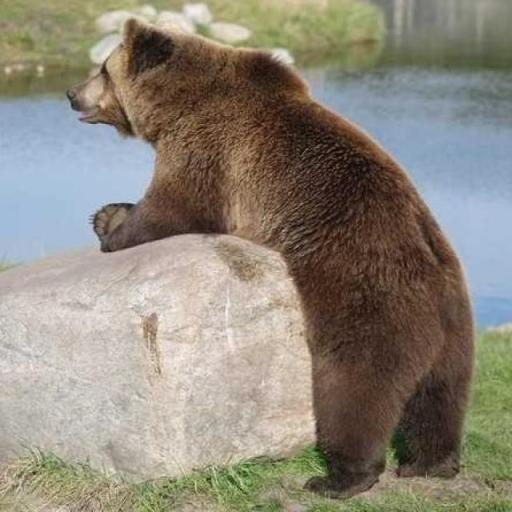Bear: (65, 14, 476, 500)
